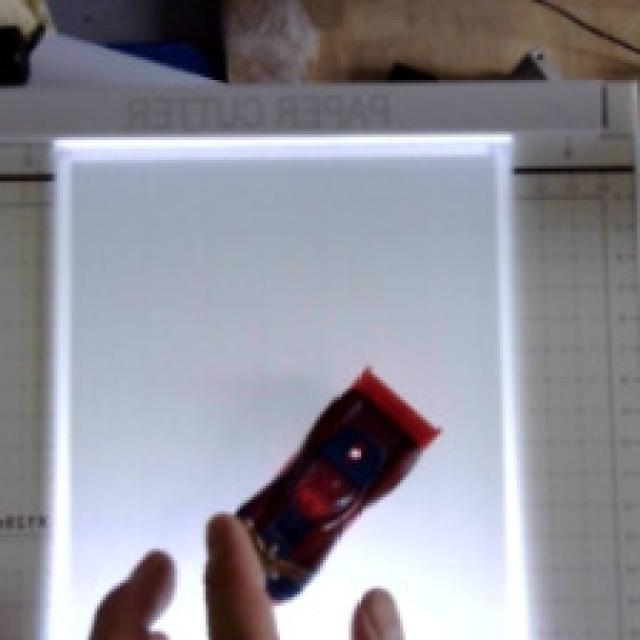Red Car: (192, 335, 479, 625)
